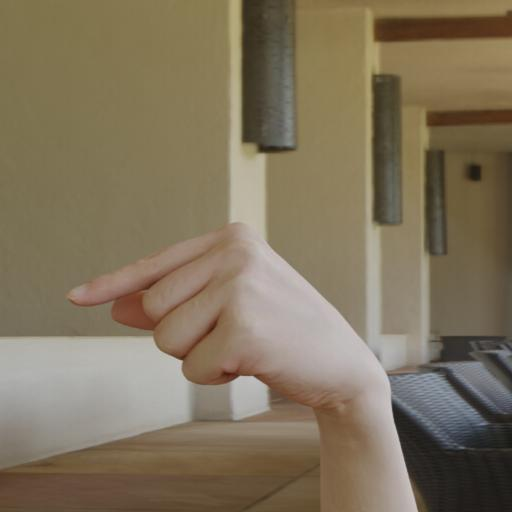G: (62, 212, 400, 434)
